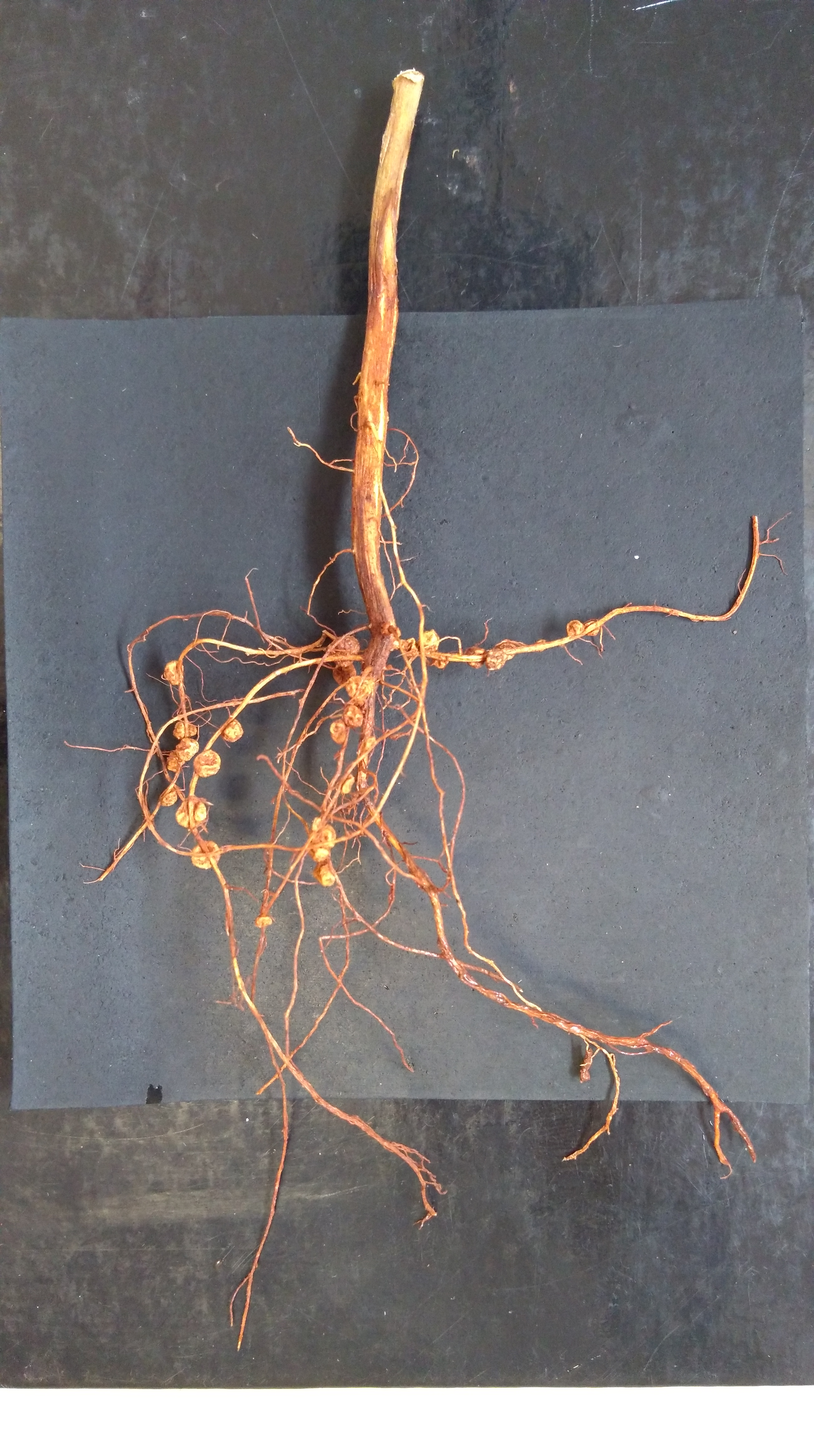nodule: (325, 633, 361, 668), (308, 824, 337, 863), (175, 796, 208, 829), (189, 839, 222, 871), (193, 748, 222, 780), (344, 674, 372, 701), (331, 661, 357, 687), (311, 863, 336, 889), (174, 737, 200, 762), (220, 718, 245, 744), (484, 646, 508, 672), (162, 659, 185, 686), (341, 703, 365, 728), (464, 645, 487, 670), (328, 718, 348, 745), (422, 627, 440, 652), (496, 641, 517, 662), (582, 617, 602, 639), (164, 750, 181, 774), (159, 787, 178, 808), (400, 637, 419, 657), (565, 619, 585, 637), (340, 773, 356, 795), (430, 657, 451, 670), (253, 915, 272, 929), (360, 736, 377, 751), (172, 721, 185, 740), (378, 621, 391, 636), (311, 816, 322, 832), (187, 723, 198, 738), (386, 663, 394, 671)
